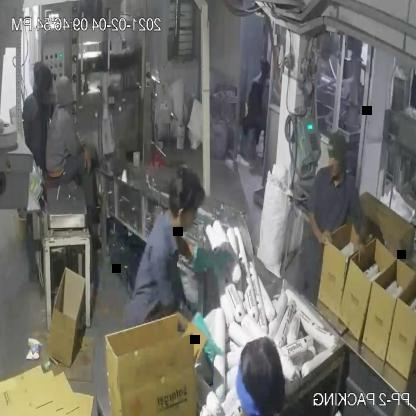glove: (187, 306, 221, 374), (188, 240, 235, 287)
no_glove: (302, 202, 334, 247), (352, 214, 368, 268)
